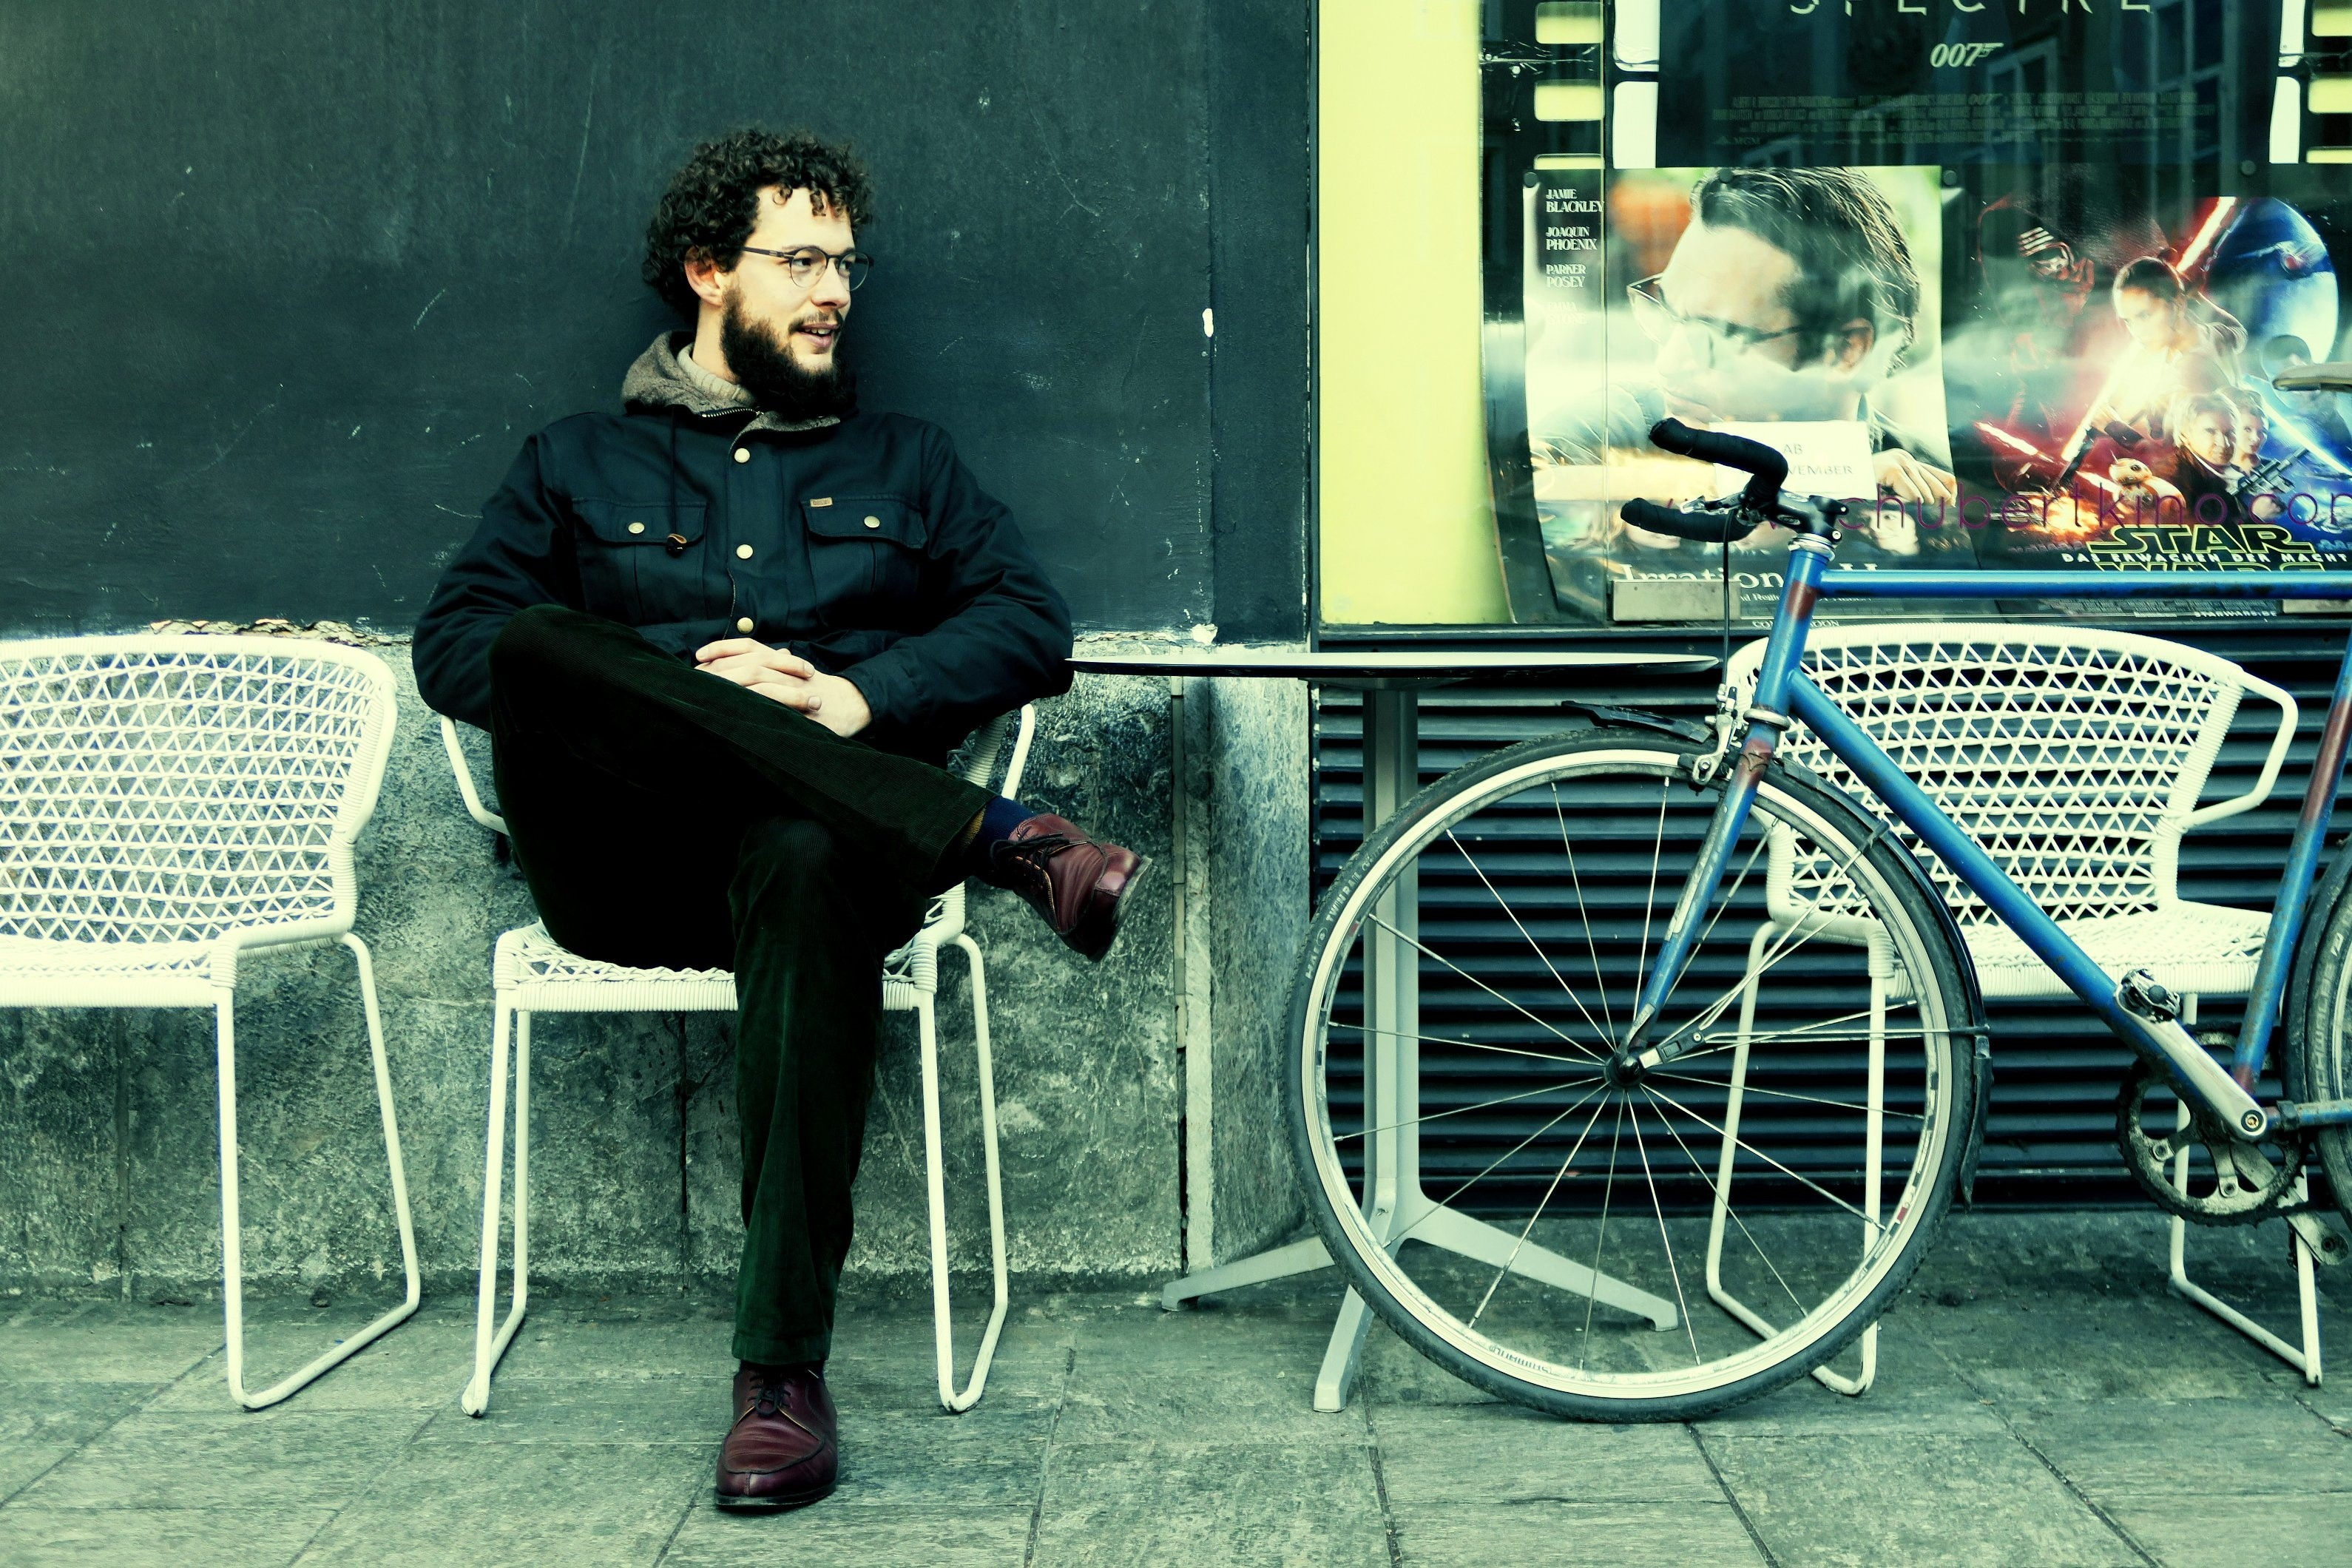face_no_mask: (697, 154, 865, 401)
